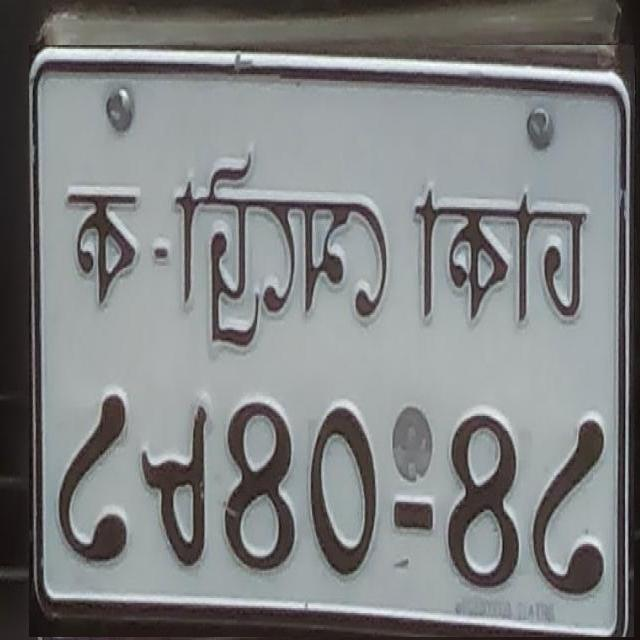numberplate: (29, 45, 634, 637)
